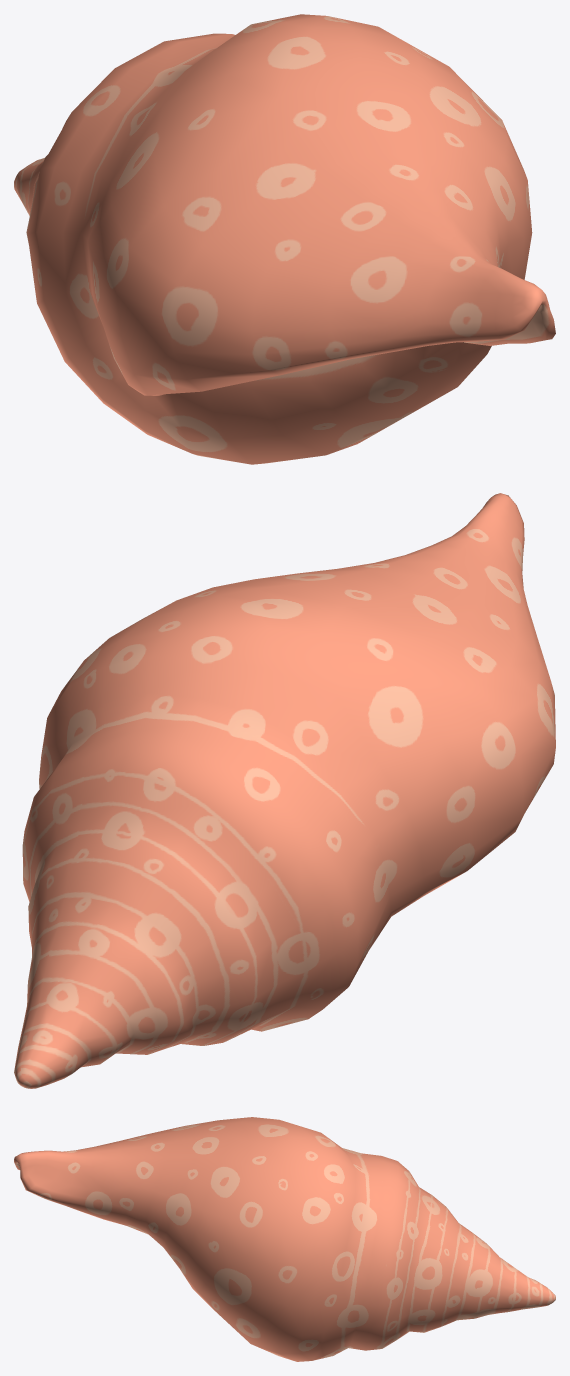
Rendered from spiral shell.fbx.
3 renders of one model, top to bottom at view 1: azimuth 30°, elevation 25°; view 2: azimuth 150°, elevation 25°; view 3: azimuth 270°, elevation 25°, orthographic. The views are drawn at different scales.
Visible parts, largest first — view 1: Banded_Tulip_v2:_Banded_Tulip_; view 2: Banded_Tulip_v2:_Banded_Tulip_; view 3: Banded_Tulip_v2:_Banded_Tulip_.
Boxes of the visible parts, x1=… form: Banded_Tulip_v2:_Banded_Tulip_: x1=14, y1=14, x2=555, y2=464; Banded_Tulip_v2:_Banded_Tulip_: x1=14, y1=493, x2=555, y2=1088; Banded_Tulip_v2:_Banded_Tulip_: x1=14, y1=1117, x2=555, y2=1361.
Size of the model in its own units: 6.98 by 6.4 by 14.31.
